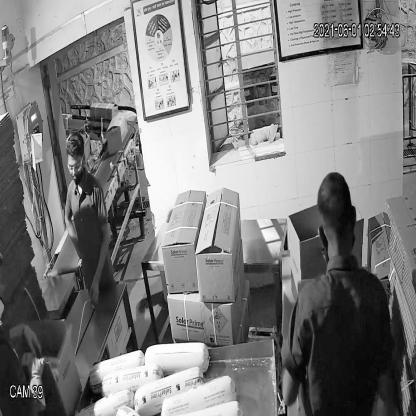goggles: (63, 156, 89, 176)
